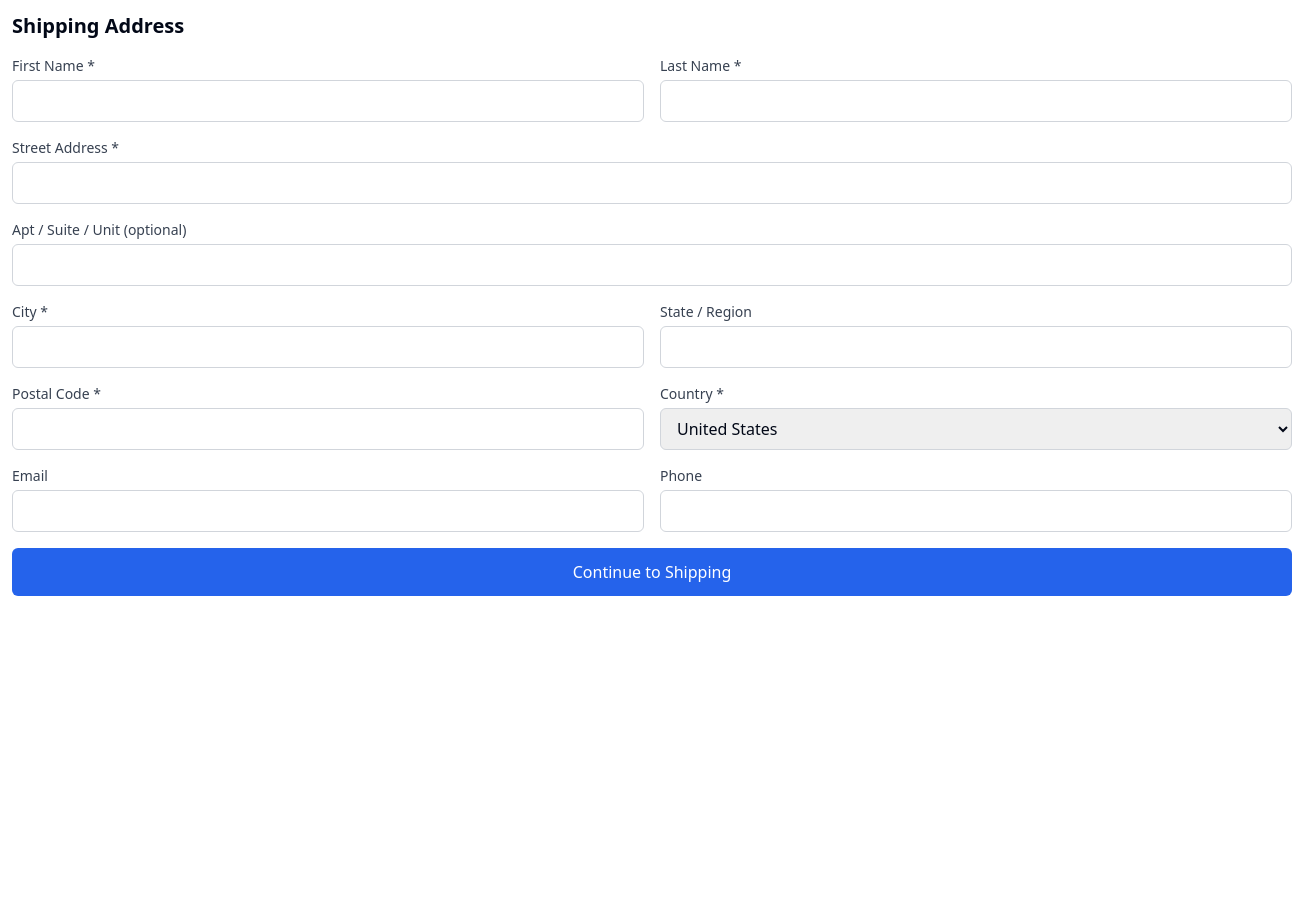
Test case: AddressForm › displays error from API failure
This screenshot has width=1304, height=912.
Type "John" into the field labelled "First Name *" at (328, 101), box [12,80,644,122]
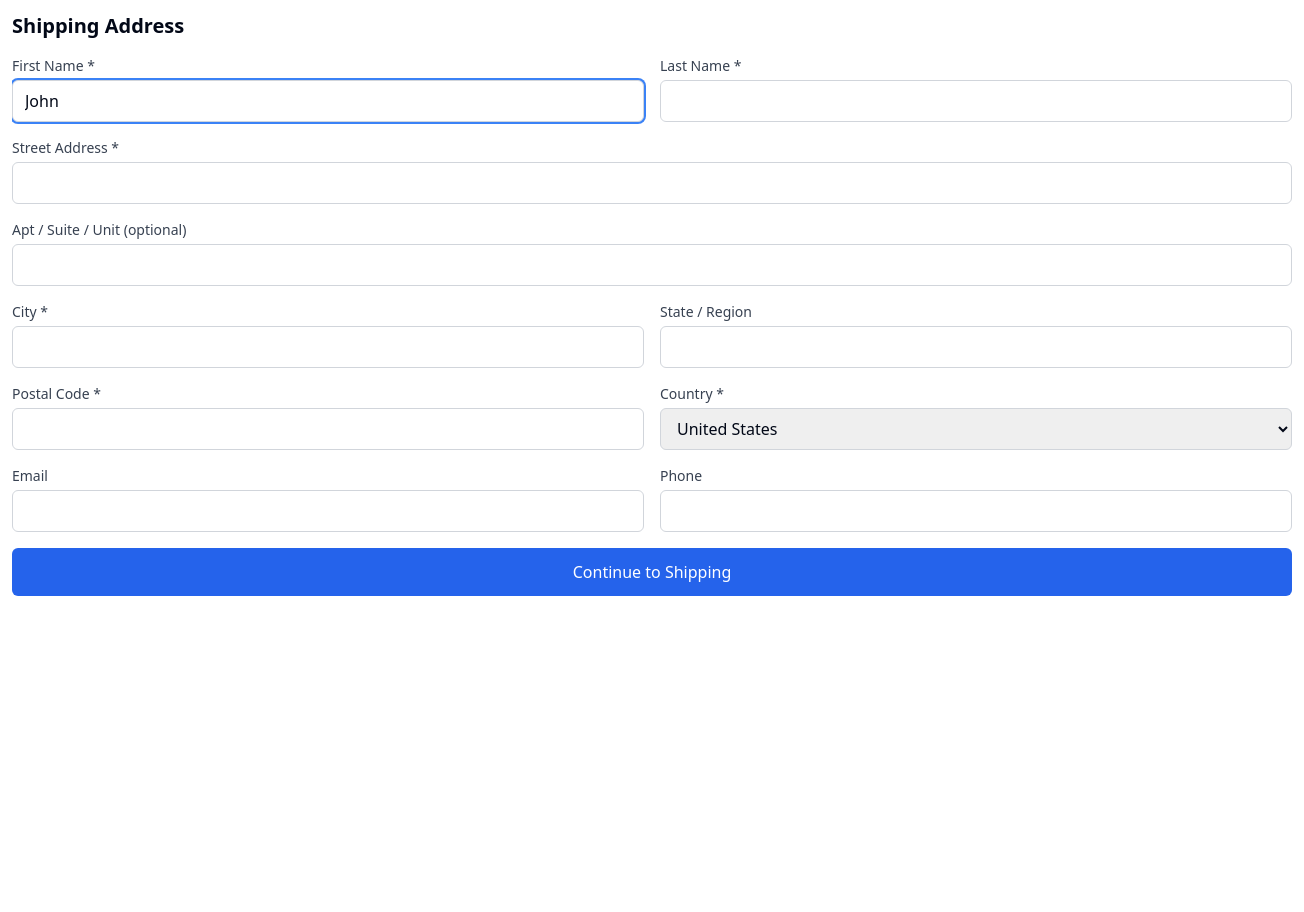
Type "Doe" into the field labelled "Last Name *" at (976, 101), box [660,80,1292,122]
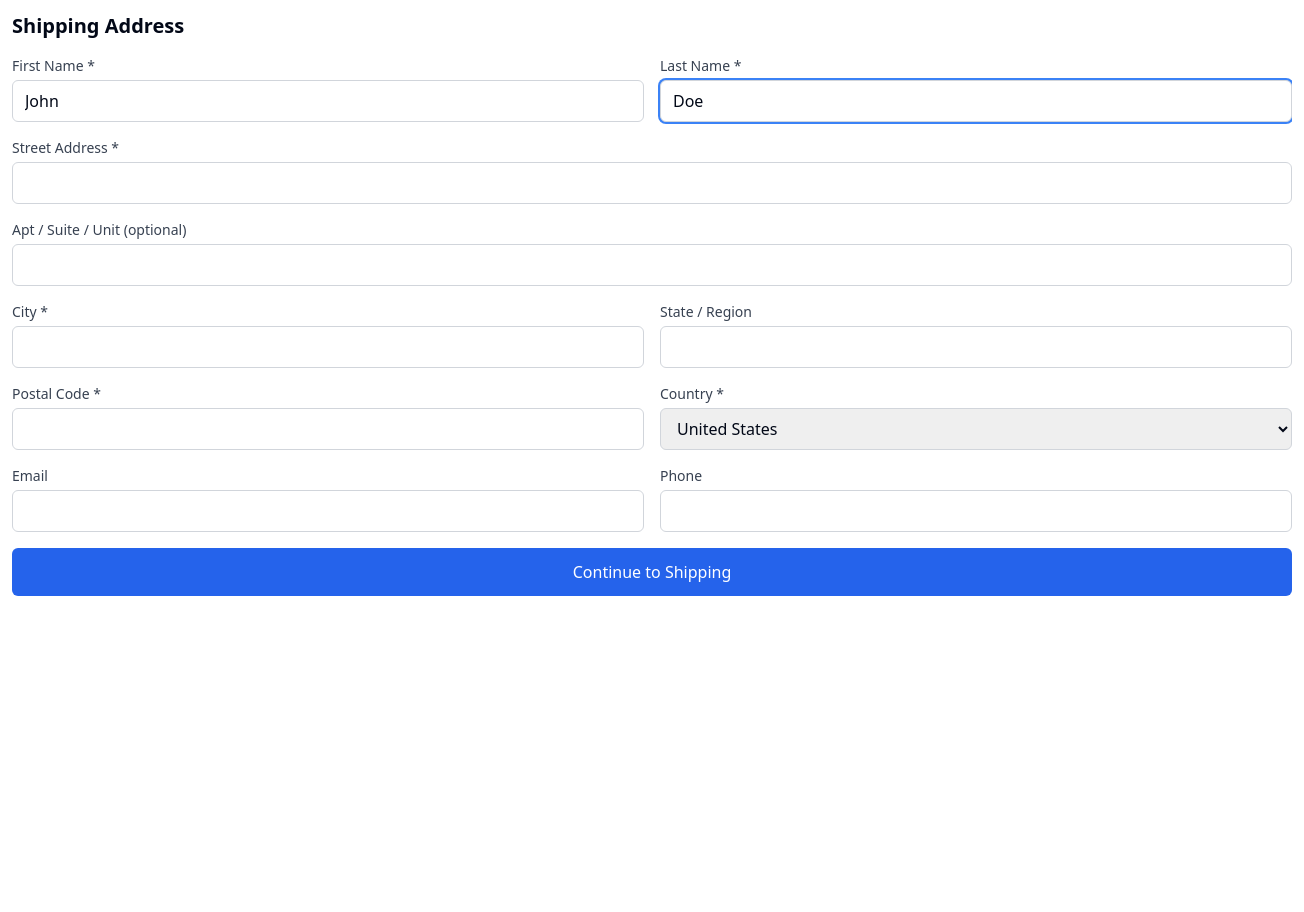
Type "123 Main St" into the field labelled "Street Address *" at (652, 183), box [12,162,1292,204]
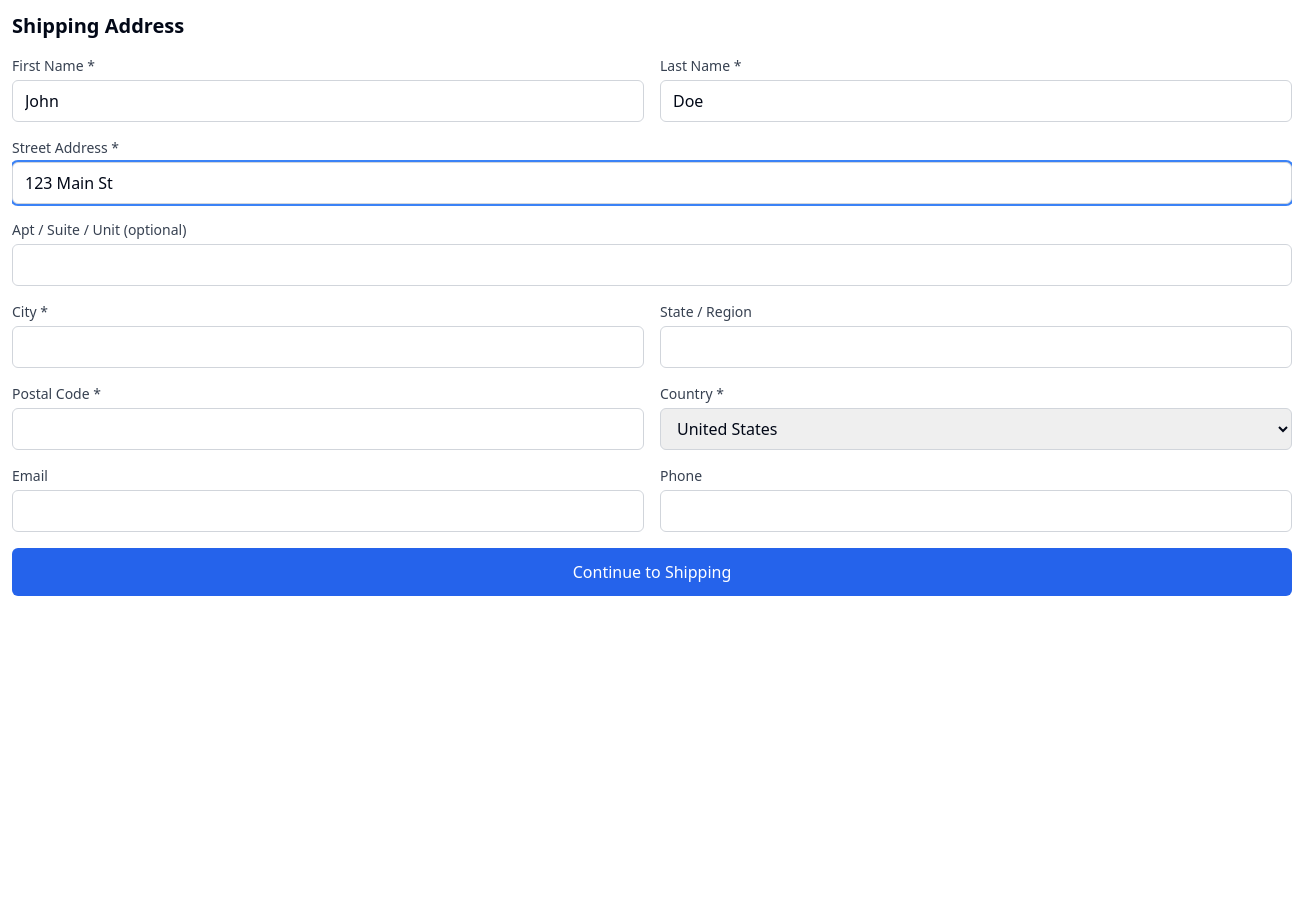
Type "New York" into the field labelled "City *" at (328, 347), box [12,326,644,368]
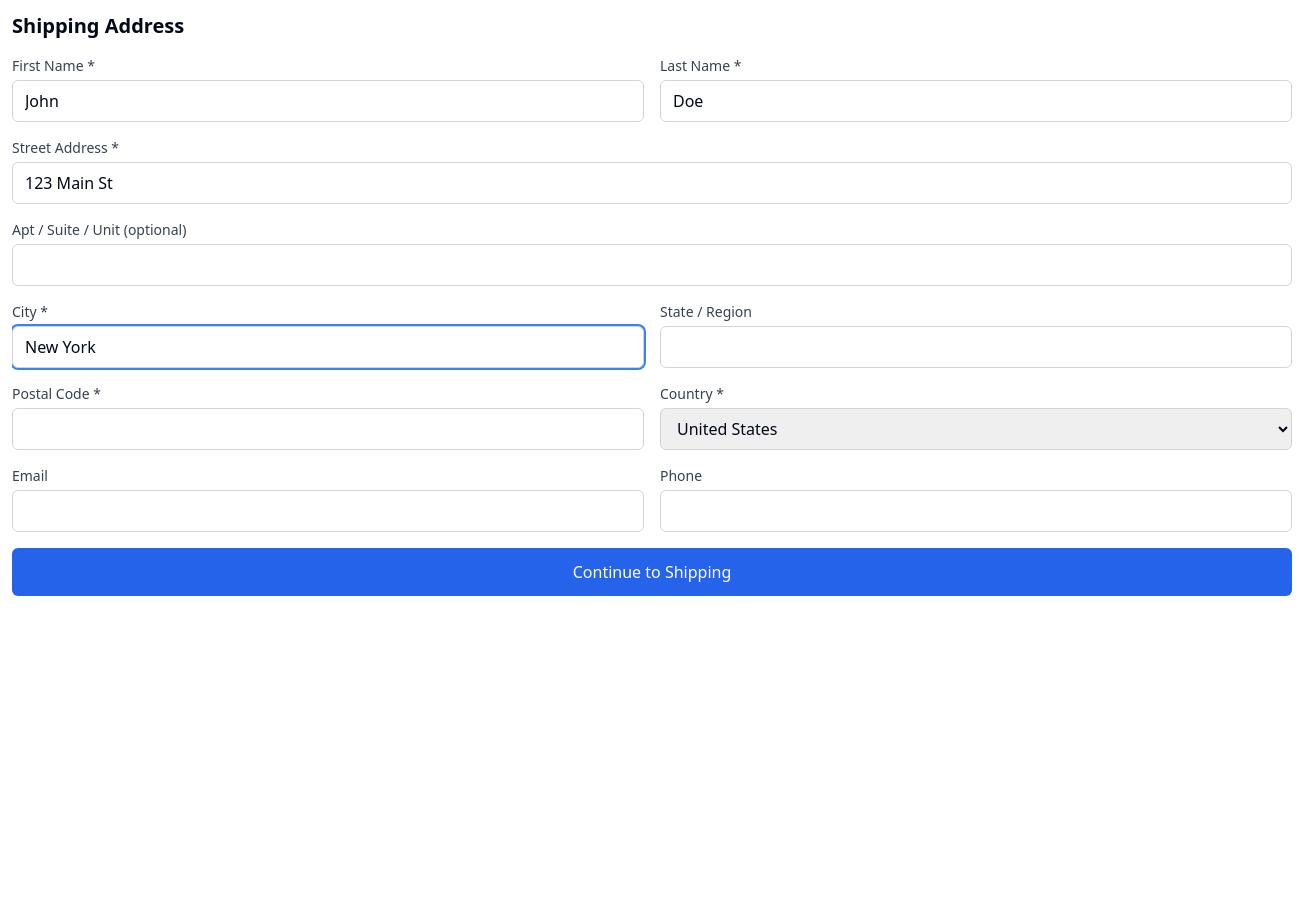
Type "10001" into the field labelled "Postal Code *" at (328, 429), box [12,408,644,450]
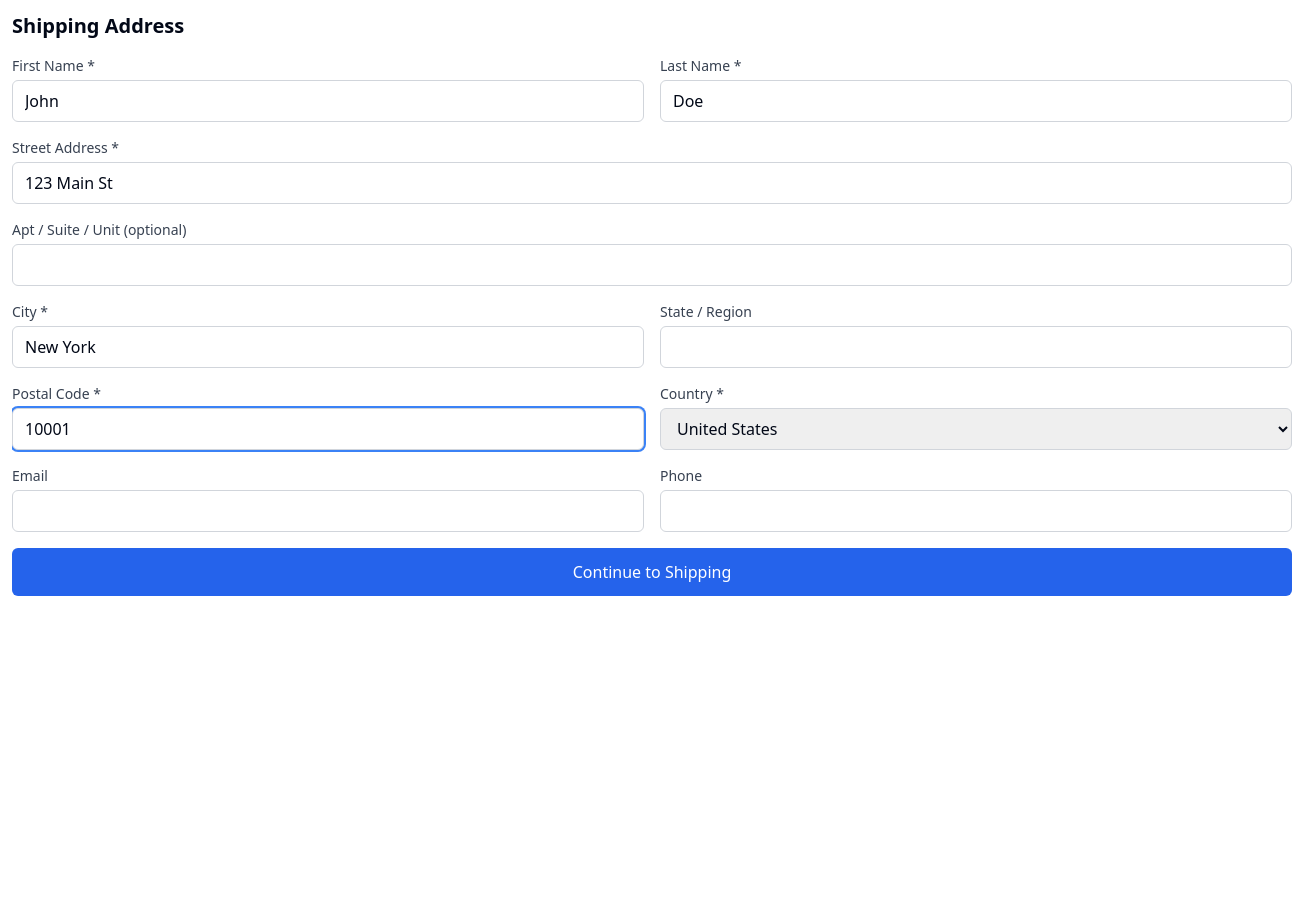
Click the button "Continue to Shipping" at (652, 572), box [12,548,1292,596]
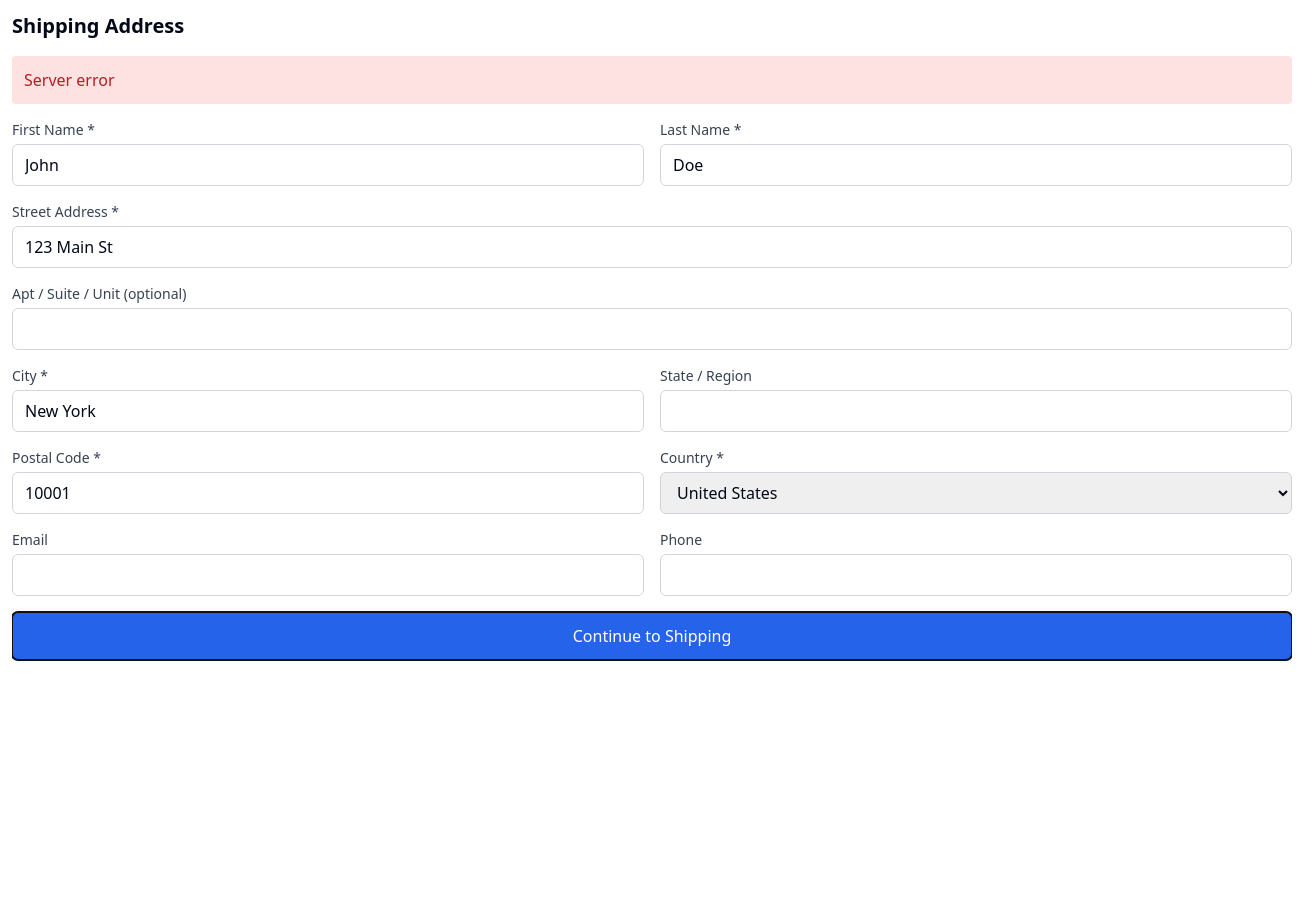
Now the message reads "Server error", box [24,69,114,91]
